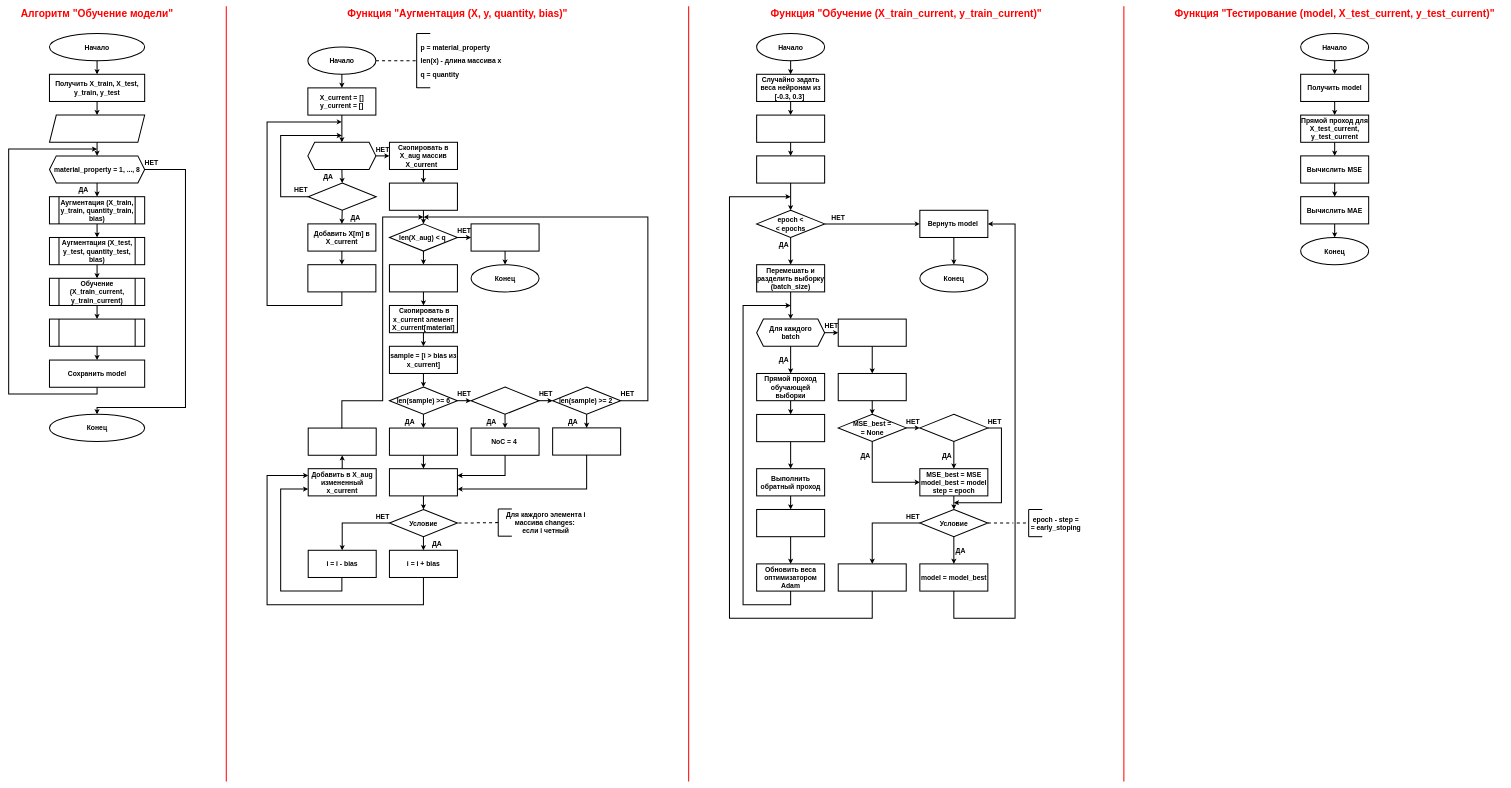
Image size: 1511x788. Some labels were removed from this diagram. The box of each missing label's shape, as (x1, y1, x2, y2) in pixels:
epoch = epoch + 1: (838, 563, 907, 591)
epoch = step = 0 MSE_best = None model_best = None: (756, 155, 825, 183)
len(sample) >= 4: (470, 386, 539, 415)
m = 1, ..., n: (307, 142, 376, 170)
material = случайный индекс массива X_current: (389, 264, 458, 292)
MSE_best > > MSE: (919, 414, 988, 442)
NoC = 2: (552, 427, 621, 455)
NoC = 6: (389, 427, 458, 456)
y[m][p] != 0: (308, 182, 377, 211)
Ввести quantity_train, quantity_test, bias: (49, 114, 145, 143)
Вернуть X_aug, y_aug: (470, 223, 539, 251)
Вычислить MSE и MAE: (838, 373, 907, 401)
Вычислить значения градиента: (756, 509, 825, 537)
Вычислить локальные ошибки delta: (756, 414, 825, 442)
Добавить y [m][p ] в y_current: (307, 264, 376, 292)
Добавить в y_aug y_current[material]: (308, 427, 377, 456)
Применить validation_split: (756, 114, 825, 143)
Прямой проход валиадационной выборки: (838, 318, 907, 347)
Скопировать в y_aug массив y_current: (389, 182, 458, 211)
Случайно выбрать NoC элементов из sample в changes: (389, 468, 458, 496)
Тестирование (model, X_test_current, y_test_current): (49, 318, 145, 347)
